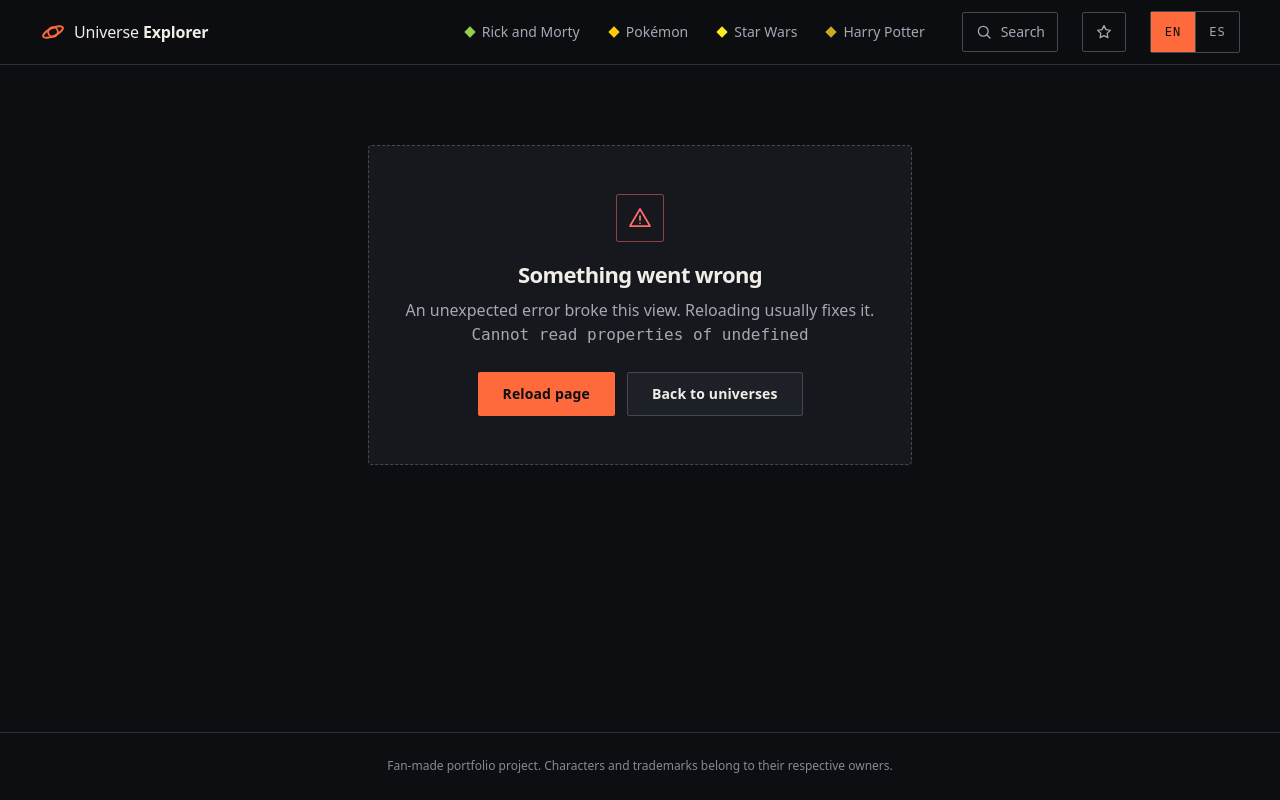
Test: RouteErrorPage › replaces a page that crashed, keeping the shell, and leads back home
Expected: the heading "Something went wrong" is shown, [518,262,762,286]
Expected: the navigation bar named "Universes" is shown, [464,22,925,41]
Click the link "Back to universes": click(715, 394) [627,372,802,416]
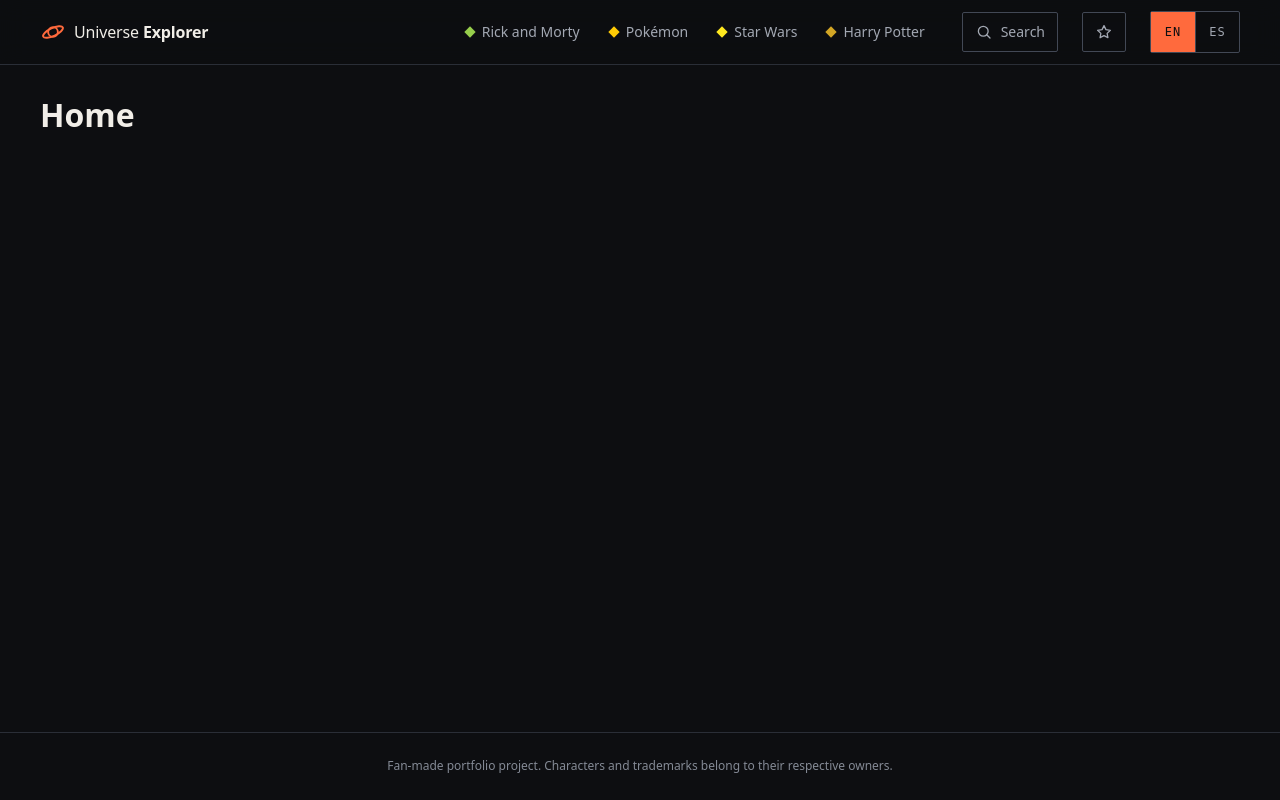
Expected: the heading "Home" is shown, [40,93,135,136]
